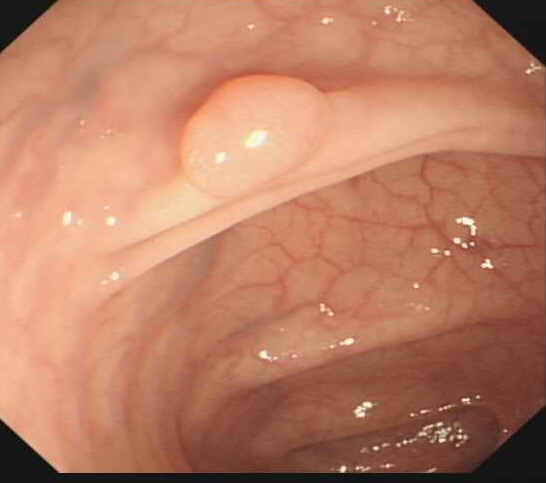adenoma: (175, 71, 333, 202)
